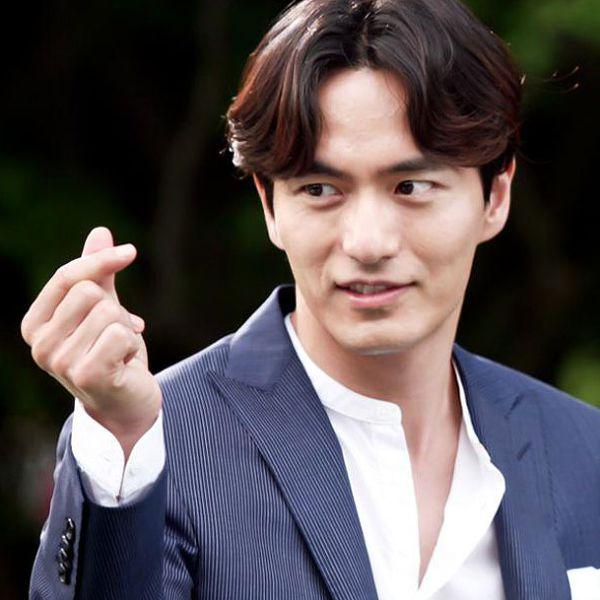heart gesture: (74, 225, 139, 282)
